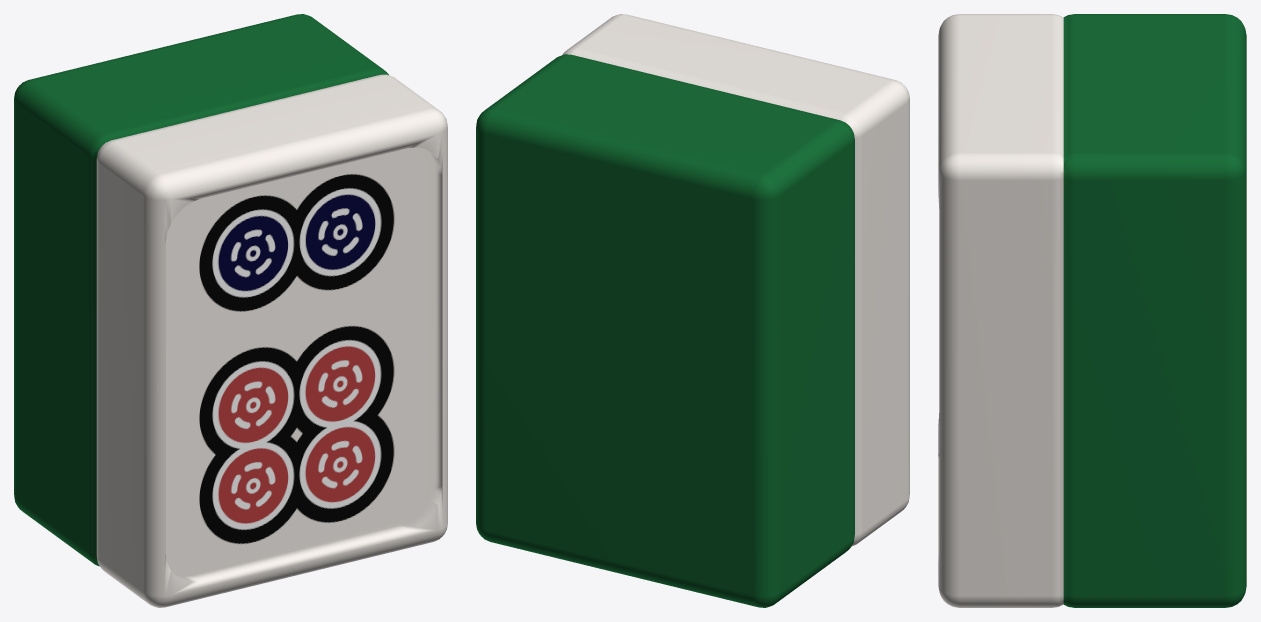
Rendered from pin6-w2nmdvps.glb.
3 views of the same model, side by side, from view 1: azimuth 30°, elevation 25°; view 2: azimuth 150°, elevation 25°; view 3: azimuth 270°, elevation 25° (orthographic). The views are drawn at different scales.
Visible parts, largest first — view 1: TileBody, FacePanel; view 2: TileBody; view 3: TileBody.
Boxes of the visible parts, <box> form: TileBody: <box>14,14,447,607</box>; FacePanel: <box>165,148,428,569</box>; TileBody: <box>476,14,909,607</box>; TileBody: <box>938,14,1246,607</box>.
Bounding box in the file's own units: 19 × 26 × 16.
3 materials, 1 textured.
